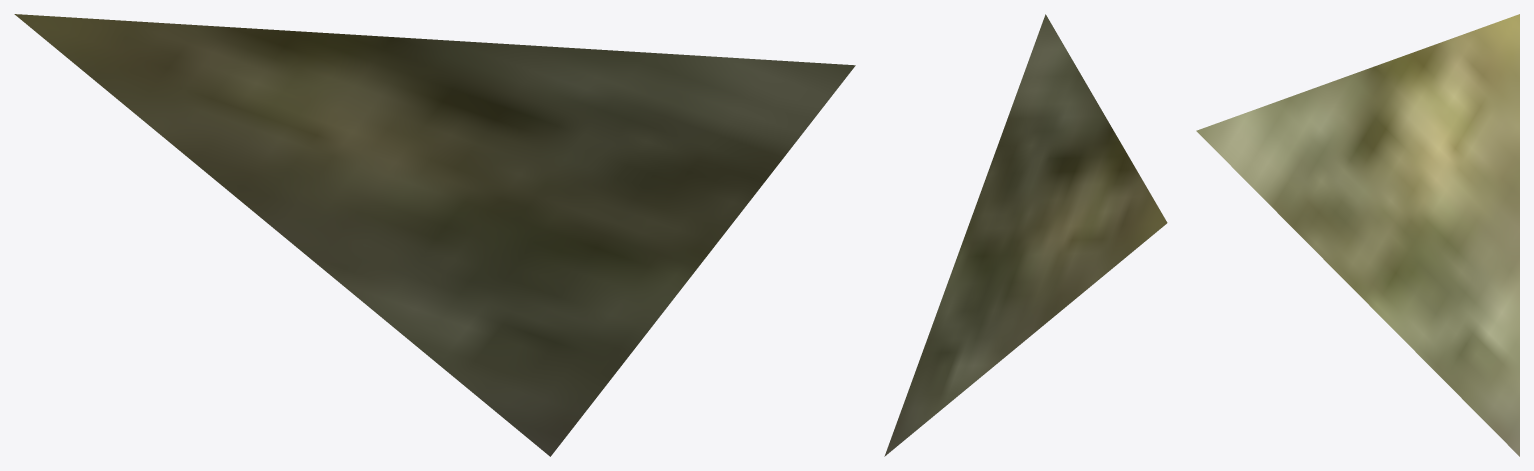
3 views of the same model, side by side, from view 1: azimuth 30°, elevation 25°; view 2: azimuth 150°, elevation 25°; view 3: azimuth 270°, elevation 25° (orthographic). The views are drawn at different scales.
Bounding box in the file's own units: 0.9836 × 1.08 × 0.97.
1 material, 1 textured.
